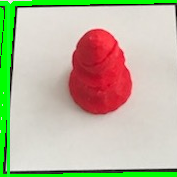Red Bishop: (58, 23, 140, 120)
